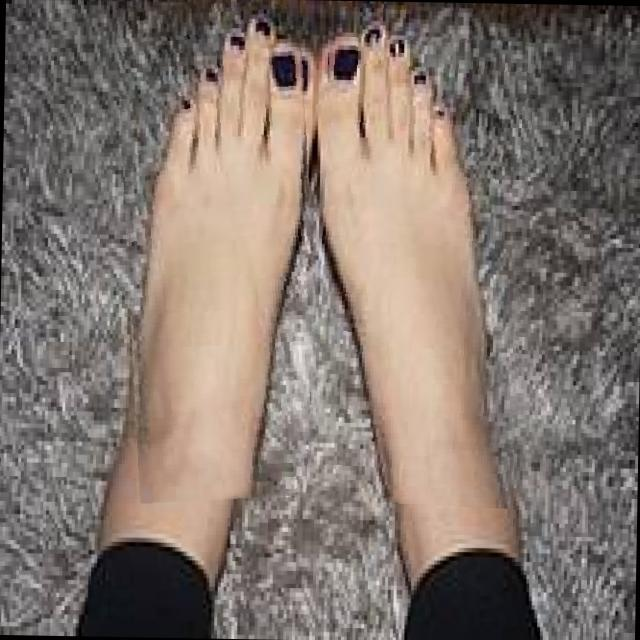No_Shoes: (105, 22, 326, 540), (314, 16, 530, 540)
